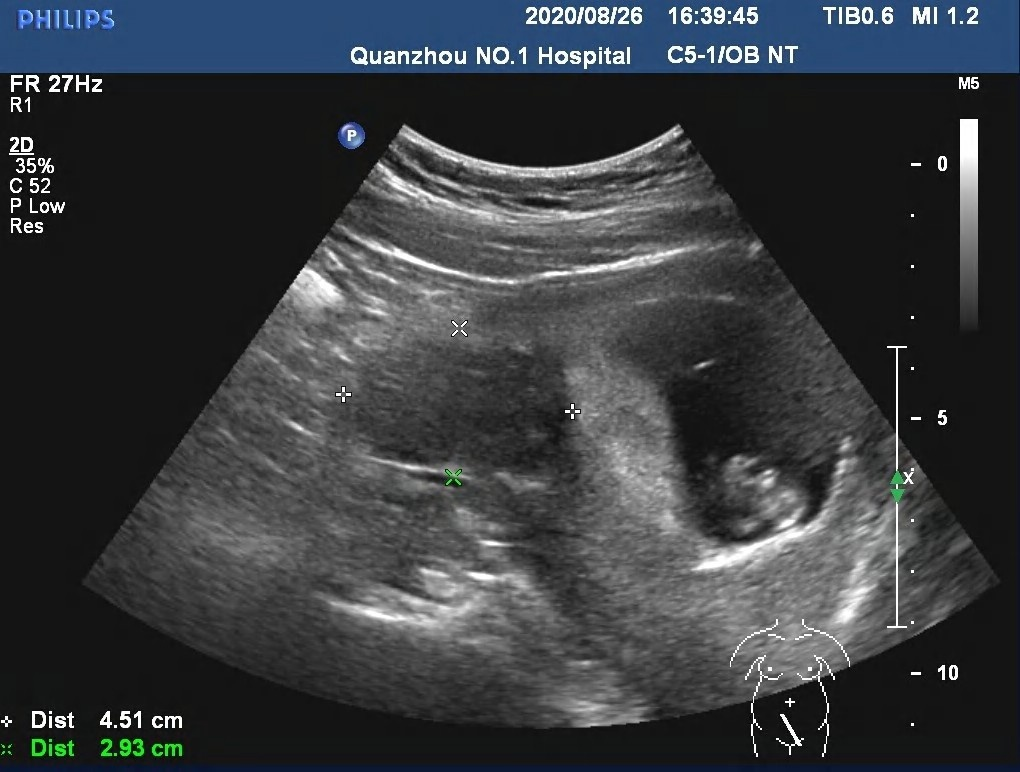肌瘤: (345, 327, 573, 481)
